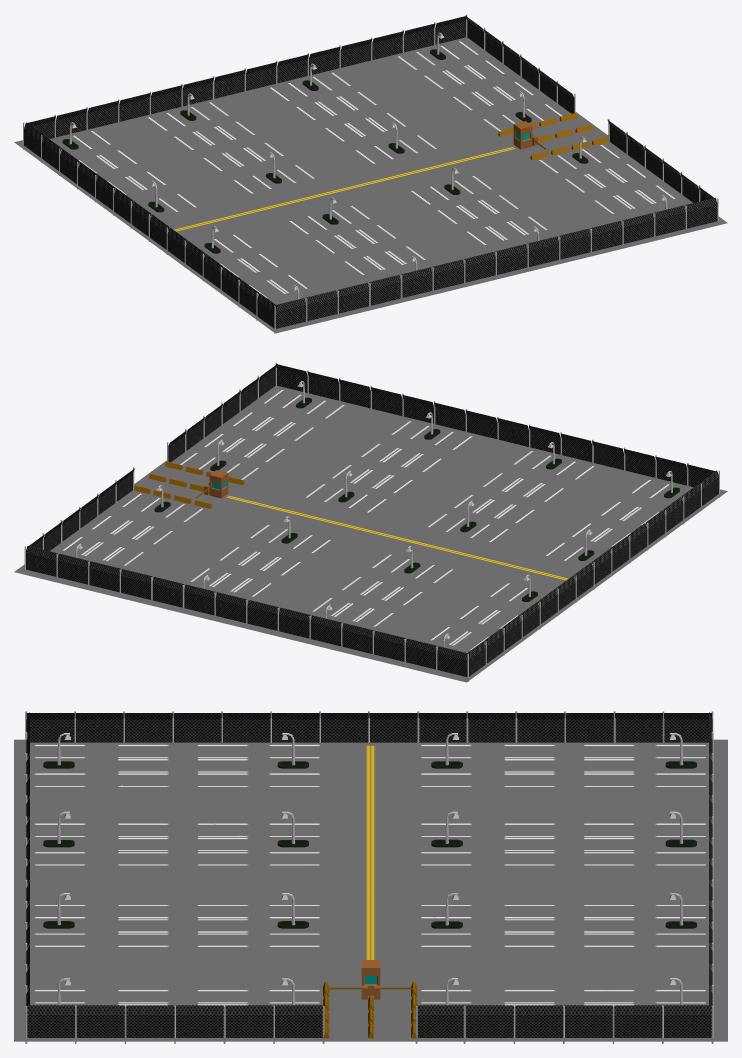
File: ParkingLot.obj
The picture shows the model from 3 angles, top to bottom: view 1: azimuth 30°, elevation 25°; view 2: azimuth 150°, elevation 25°; view 3: azimuth 270°, elevation 25°; orthographic projection. The views are drawn at different scales.
Parts seen in each view (by area): view 1: Plane, Plane.014, Plane.016, Plane.012, Plane.011, Plane.010, Plane.019, Plane.013, Plane.008, Plane.018, Plane.015, Plane.009 (+16 smaller); view 2: Plane, Plane.049_Plane.051, Plane.052_Plane.054, Plane.044_Plane.046, Plane.054_Plane.056, Plane.053_Plane.055, Plane.048_Plane.050, Plane.047_Plane.049, Plane.043_Plane.045, Plane.051_Plane.053, Plane.045_Plane.047, Plane.046_Plane.048 (+16 smaller); view 3: Plane, Plane.034_Plane.038, Plane.005, Plane.004, Plane.002, Plane.039_Plane.041, Plane.038_Plane.040, Plane.037_Plane.039, Plane.001, Plane.040_Plane.042, Plane.006, Plane.003 (+16 smaller).
Part boxes in pixels (x1,y1,x2,y2): Plane: [14, 37, 727, 333]; Plane.014: [432, 259, 463, 290]; Plane.016: [464, 251, 495, 282]; Plane.012: [527, 236, 558, 266]; Plane.011: [559, 228, 590, 259]; Plane.010: [622, 213, 653, 243]; Plane.019: [306, 290, 337, 321]; Plane.013: [400, 267, 432, 297]; Plane.008: [654, 205, 685, 236]; Plane.018: [369, 275, 400, 305]; Plane.015: [495, 244, 527, 274]; Plane.009: [590, 221, 622, 251]; Plane: [14, 385, 727, 682]; Plane.049_Plane.051: [184, 584, 215, 615]; Plane.052_Plane.054: [89, 561, 120, 592]; Plane.044_Plane.046: [279, 607, 310, 638]; Plane.054_Plane.056: [26, 546, 57, 576]; Plane.053_Plane.055: [57, 553, 88, 584]; Plane.048_Plane.050: [342, 623, 373, 653]; Plane.047_Plane.049: [374, 631, 405, 661]; Plane.043_Plane.045: [310, 615, 342, 646]; Plane.051_Plane.053: [152, 577, 183, 607]; Plane.045_Plane.047: [405, 638, 437, 669]; Plane.046_Plane.048: [437, 646, 468, 676]; Plane: [14, 739, 727, 1041]; Plane.034_Plane.038: [465, 1005, 513, 1037]; Plane.005: [76, 1005, 124, 1037]; Plane.004: [126, 1005, 174, 1037]; Plane.002: [225, 1005, 273, 1037]; Plane.039_Plane.041: [614, 1005, 662, 1037]; Plane.038_Plane.040: [564, 1005, 612, 1037]; Plane.037_Plane.039: [515, 1005, 563, 1037]; Plane.001: [275, 1005, 323, 1037]; Plane.040_Plane.042: [664, 1005, 711, 1037]; Plane.006: [27, 1005, 74, 1037]; Plane.003: [176, 1005, 223, 1037].
Bounding box in the file's own units: 114 × 6.83 × 114.
